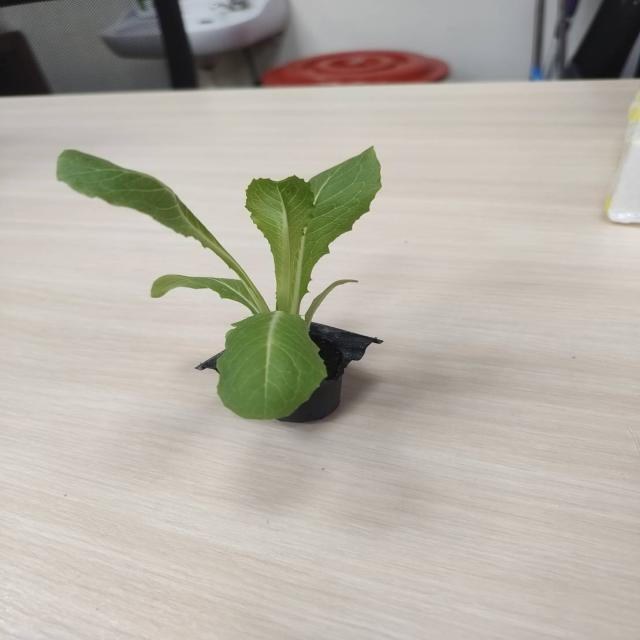Lettuce-Not-Ready-to-Harvest: (57, 148, 382, 418)
